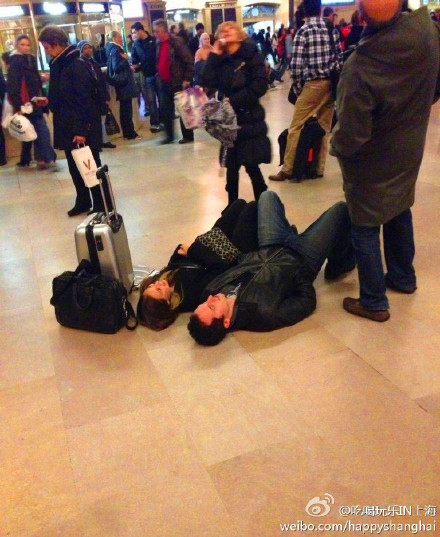10+: (1, 2, 436, 331)
down: (186, 195, 358, 350), (133, 198, 256, 336)
